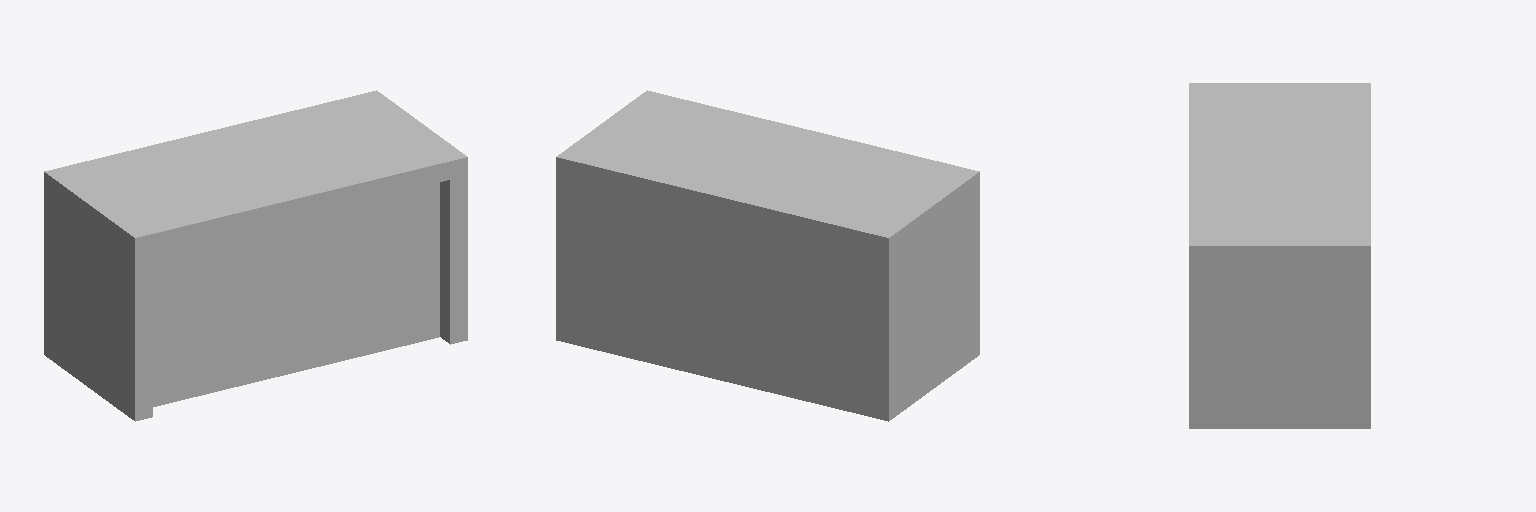
The model's file is chest of drawers.obj.
3 views of the same model, side by side, from view 1: azimuth 30°, elevation 25°; view 2: azimuth 150°, elevation 25°; view 3: azimuth 270°, elevation 25° (orthographic).
Bounding box in the file's own units: 19 × 10 × 9.